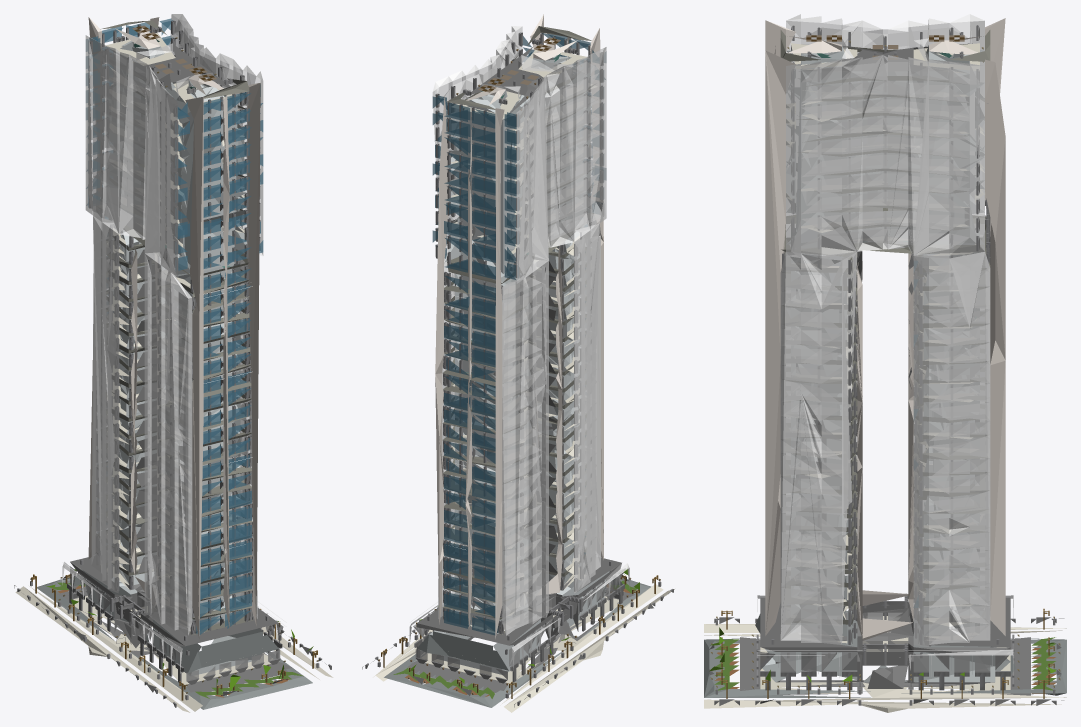
3 renders of one model, left to right at view 1: azimuth 30°, elevation 25°; view 2: azimuth 150°, elevation 25°; view 3: azimuth 270°, elevation 25°, orthographic. The views are drawn at different scales.
Visible parts, largest first — view 1: Object_34, Object_24, Object_27, Object_3, Object_12, Object_8, Object_13, Object_11, Object_18, Object_19, Object_33, Object_10 (+1 smaller); view 2: Object_34, Object_3, Object_24, Object_27, Object_12, Object_8, Object_13, Object_11, Object_18, Object_19, Object_33, Object_10 (+1 smaller); view 3: Object_34, Object_12, Object_24, Object_27, Object_8, Object_13, Object_19, Object_11, Object_33, Object_5, Object_18, Object_10 (+1 smaller).
Boxes of the visible parts, bbox=[...] form: Object_34: bbox=[62, 14, 277, 673]; Object_24: bbox=[82, 31, 262, 675]; Object_27: bbox=[17, 20, 331, 707]; Object_3: bbox=[86, 18, 263, 634]; Object_12: bbox=[88, 17, 260, 638]; Object_8: bbox=[97, 20, 253, 635]; Object_13: bbox=[15, 32, 333, 712]; Object_11: bbox=[37, 565, 312, 709]; Object_18: bbox=[135, 244, 177, 610]; Object_19: bbox=[57, 72, 292, 693]; Object_33: bbox=[68, 566, 283, 681]; Object_10: bbox=[31, 574, 317, 700]; Object_34: bbox=[409, 26, 629, 671]; Object_3: bbox=[432, 32, 605, 635]; Object_24: bbox=[429, 56, 609, 674]; Object_27: bbox=[365, 32, 673, 705]; Object_12: bbox=[435, 14, 603, 638]; Object_8: bbox=[442, 26, 595, 634]; Object_13: bbox=[373, 47, 674, 712]; Object_11: bbox=[384, 566, 651, 707]; Object_18: bbox=[514, 252, 557, 610]; Object_19: bbox=[407, 61, 634, 693]; Object_33: bbox=[413, 568, 625, 679]; Object_10: bbox=[381, 575, 658, 698]; Object_34: bbox=[757, 14, 1013, 677]; Object_12: bbox=[765, 18, 1005, 640]; Object_24: bbox=[762, 45, 1010, 682]; Object_27: bbox=[714, 25, 1056, 705]; Object_8: bbox=[780, 30, 990, 624]; Object_13: bbox=[704, 43, 1066, 712]; Object_19: bbox=[740, 56, 1030, 695]; Object_11: bbox=[704, 614, 1066, 697]; Object_33: bbox=[760, 603, 1009, 682]; Object_5: bbox=[714, 637, 1056, 690]; Object_18: bbox=[857, 250, 913, 640]; Object_10: bbox=[716, 608, 1054, 698].
Size of what is drawn, in the model's own units: 41 by 137 by 71.01.
